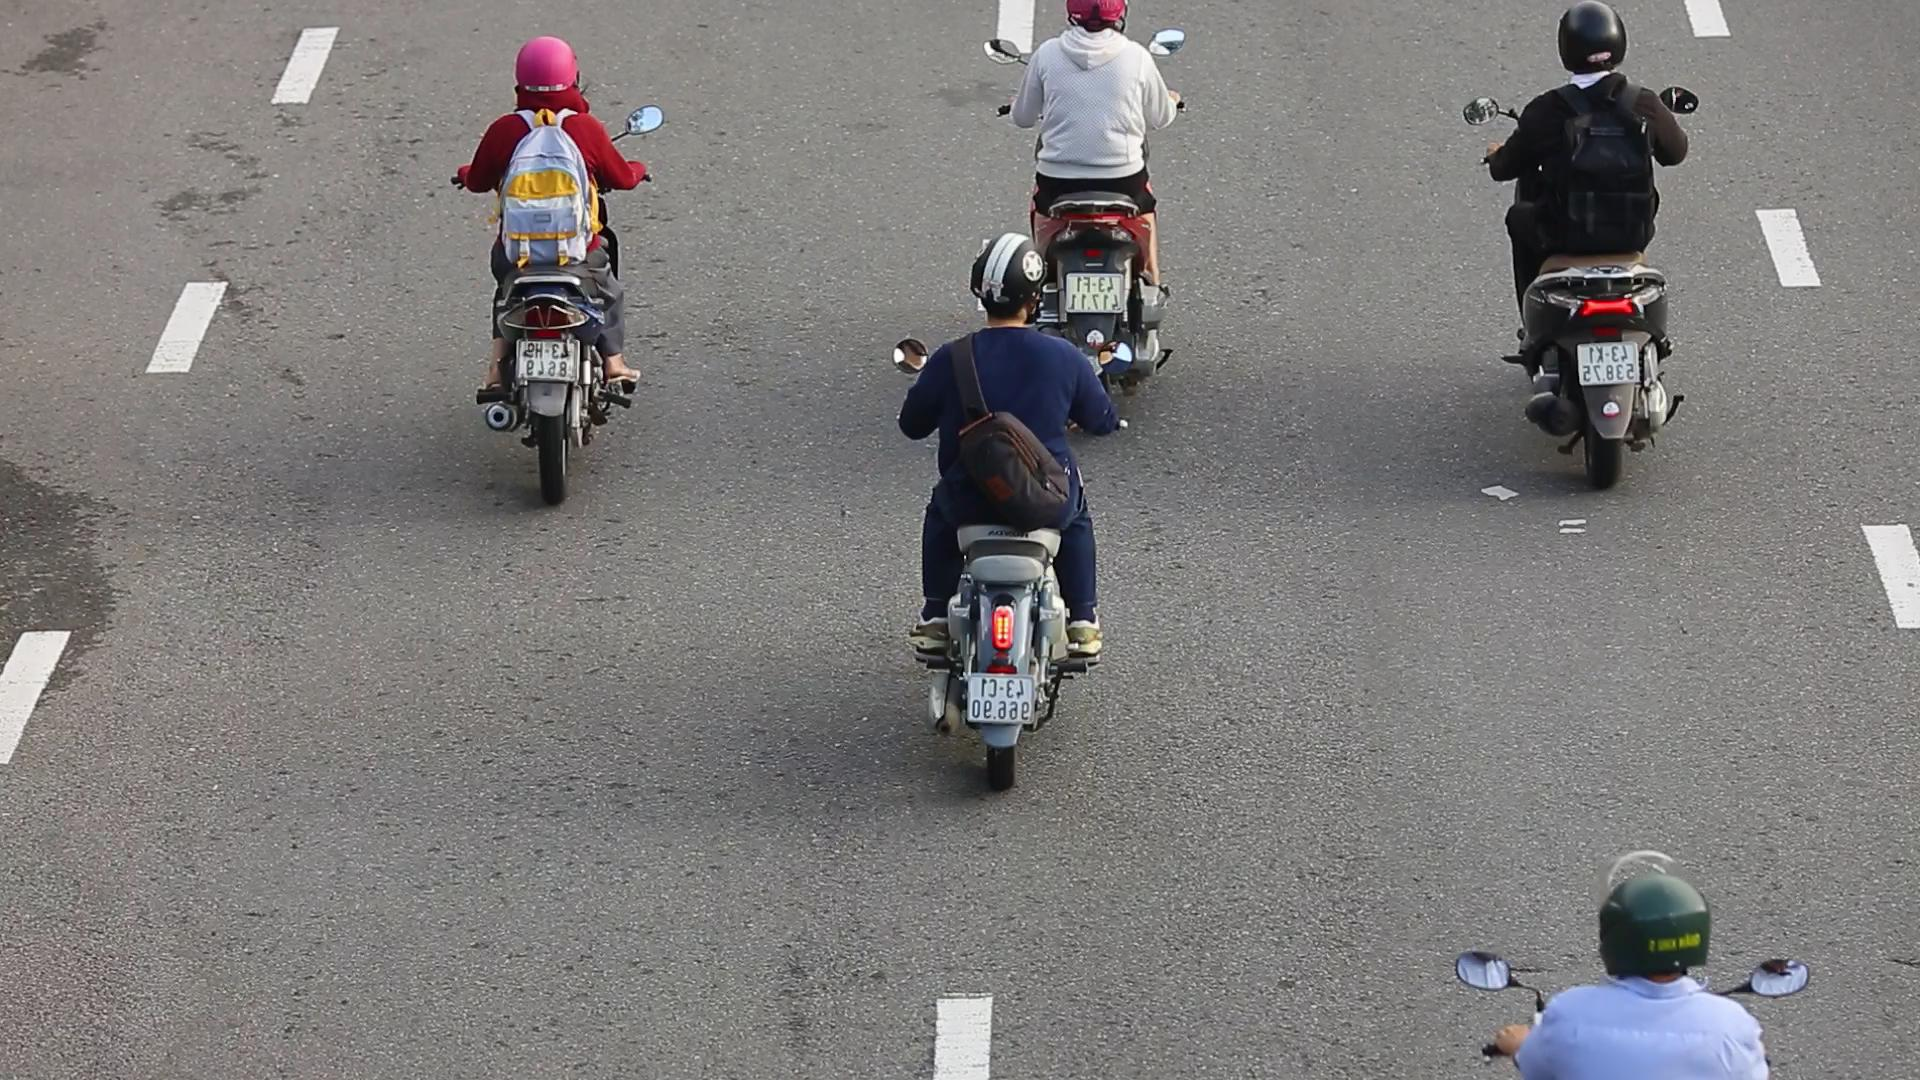motobike: (876, 231, 1131, 807), (1456, 0, 1700, 506), (448, 26, 655, 533)
